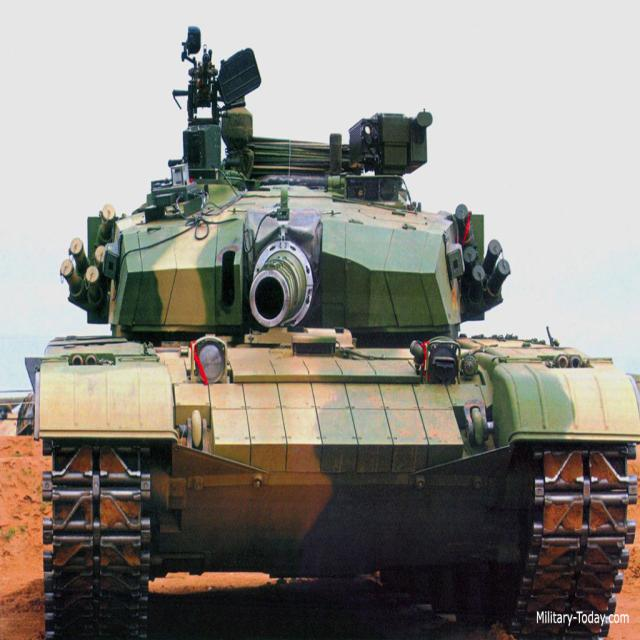Tank: (17, 60, 640, 640)
